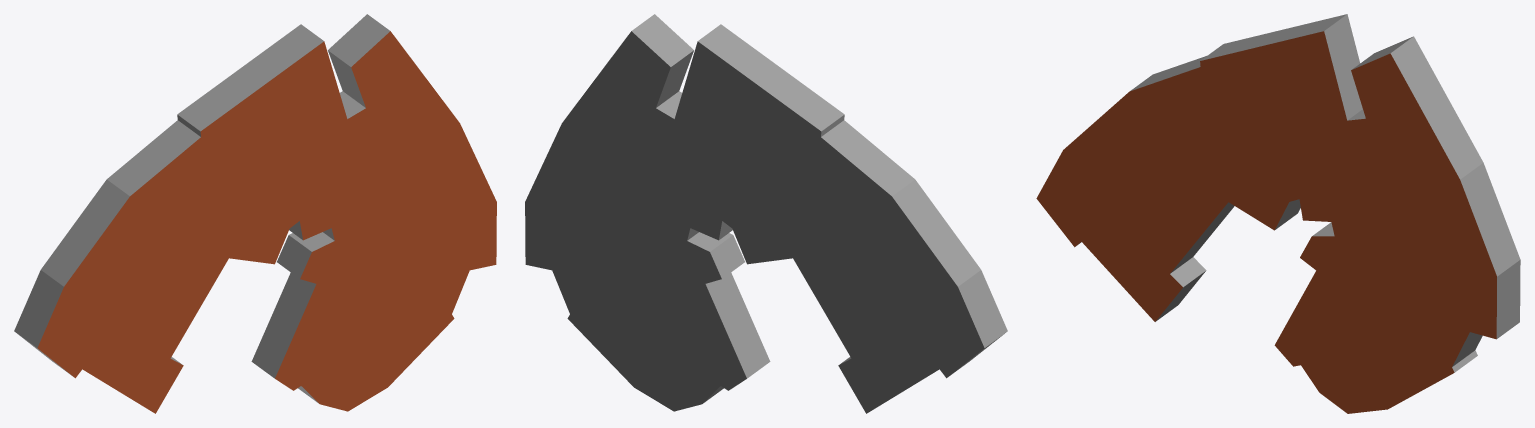
The model's file is construction_2364_assumed_A_Casa_h6m.obj.
The picture shows the model from 3 angles, left to right: view 1: azimuth 30°, elevation 25°; view 2: azimuth 150°, elevation 25°; view 3: azimuth 330°, elevation 25°; orthographic projection.
Parts seen in each view (by area): view 1: construction_2364_assumed_A_Casa; view 2: construction_2364_assumed_A_Casa; view 3: construction_2364_assumed_A_Casa.
Part boxes in pixels (x1,y1,x2,y2): construction_2364_assumed_A_Casa: [14, 14, 496, 413]; construction_2364_assumed_A_Casa: [525, 14, 1007, 413]; construction_2364_assumed_A_Casa: [1036, 14, 1520, 413].
Size of the model in its own units: 68.25 by 53.38 by 6.
